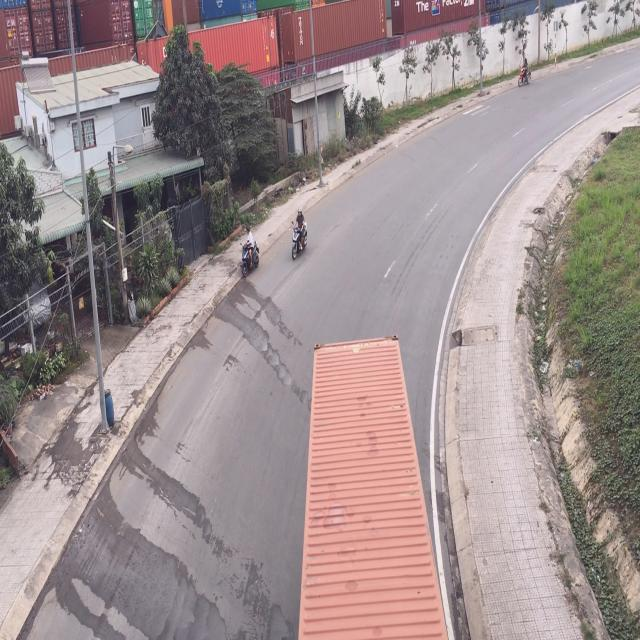motorbike: (241, 228, 261, 279), (290, 207, 308, 262), (518, 50, 534, 90)
truck: (303, 331, 441, 636)
